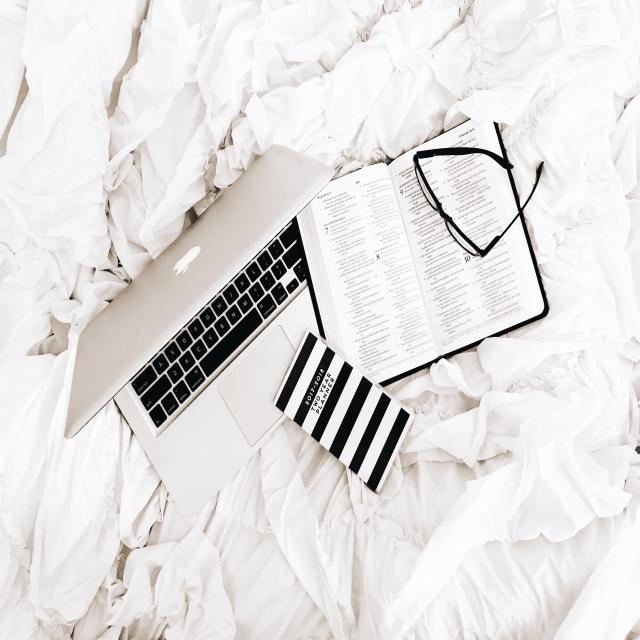paper: (293, 346, 407, 481)
